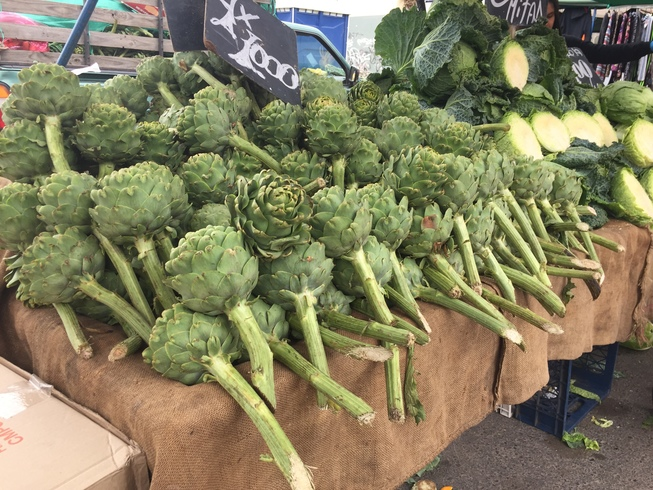precio: (195, 1, 327, 114)
